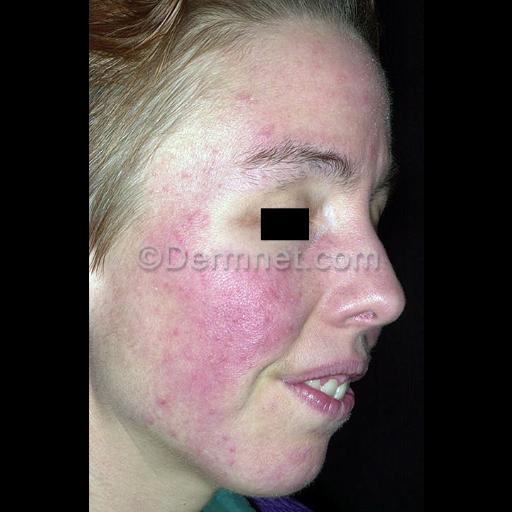Skin_Lesion: (213, 250, 299, 368), (145, 365, 221, 437), (140, 202, 204, 286), (222, 94, 286, 142)
